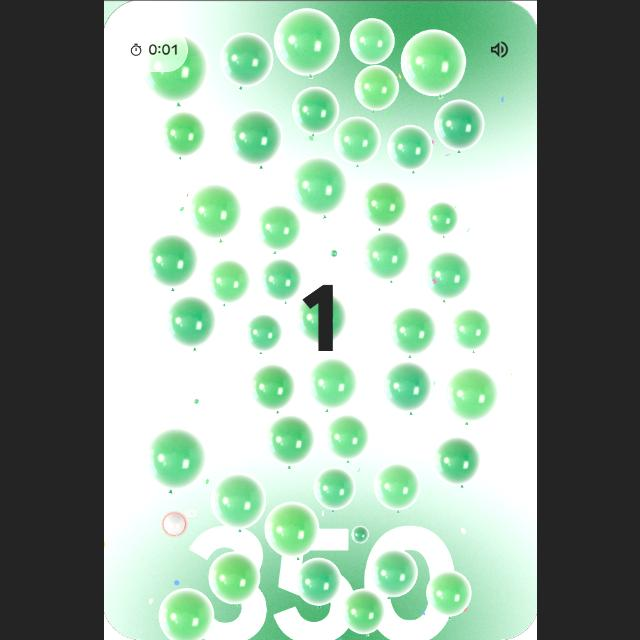hazard: (159, 509, 189, 541)
safe: (271, 6, 339, 76), (399, 28, 465, 96), (141, 34, 207, 102), (223, 106, 284, 172), (143, 426, 204, 489), (208, 472, 266, 530), (289, 156, 347, 214), (418, 247, 478, 303), (262, 500, 318, 558), (218, 32, 274, 88), (142, 232, 198, 288), (444, 366, 498, 422), (186, 183, 240, 239), (359, 231, 413, 285), (156, 587, 212, 639), (207, 550, 259, 604), (433, 98, 485, 152), (162, 295, 214, 347), (294, 292, 346, 344), (382, 359, 432, 411), (264, 415, 314, 467), (432, 436, 482, 486), (372, 462, 422, 512), (292, 557, 342, 607), (306, 358, 356, 408), (332, 116, 381, 166), (386, 306, 436, 354), (290, 86, 340, 134), (253, 204, 301, 252), (159, 110, 207, 158), (369, 549, 417, 597), (347, 17, 395, 65), (338, 588, 386, 636), (424, 570, 472, 618), (359, 180, 406, 228), (352, 63, 398, 111), (248, 363, 294, 411), (326, 414, 370, 464), (258, 256, 302, 306), (386, 124, 432, 170), (204, 259, 250, 303), (312, 466, 356, 510), (448, 308, 492, 350), (243, 314, 281, 352), (424, 201, 458, 237), (350, 525, 368, 543), (324, 246, 342, 258)
